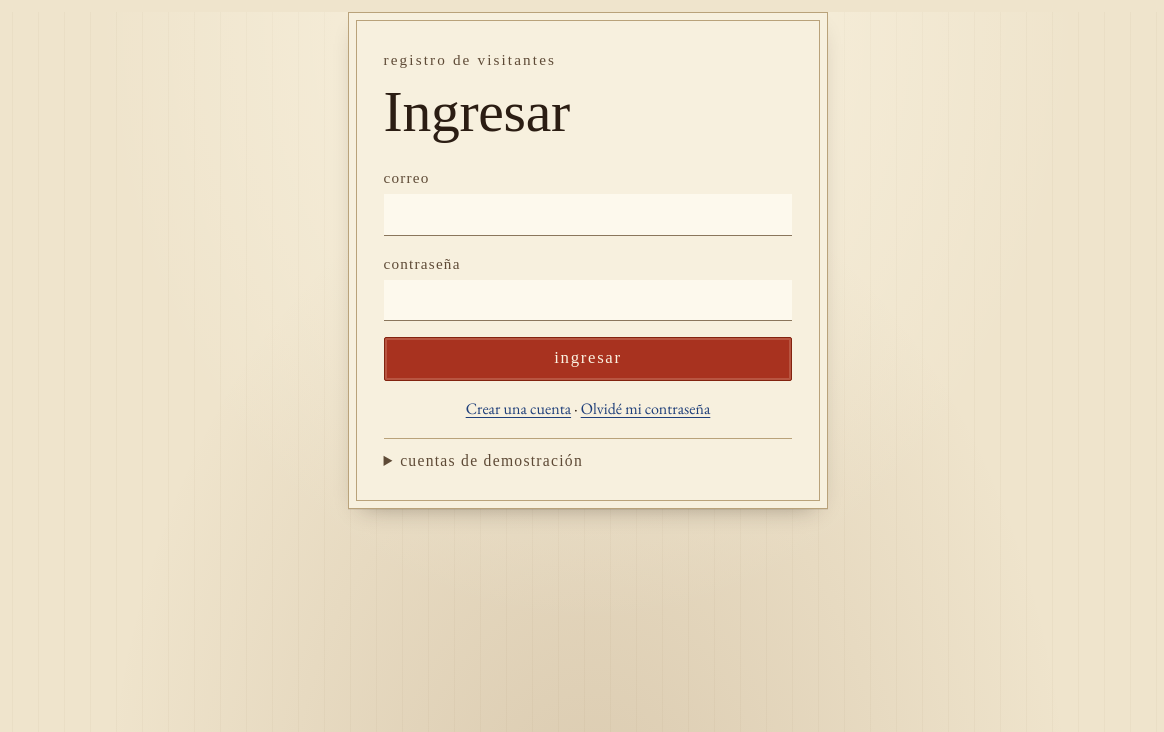
Test case: login › shows the server's error and sends staff to the workshop on success
The image size is (1164, 732).
In the field labelled "Correo": point(588, 215) [384, 194, 792, 236], type "taller@tulipann.test"
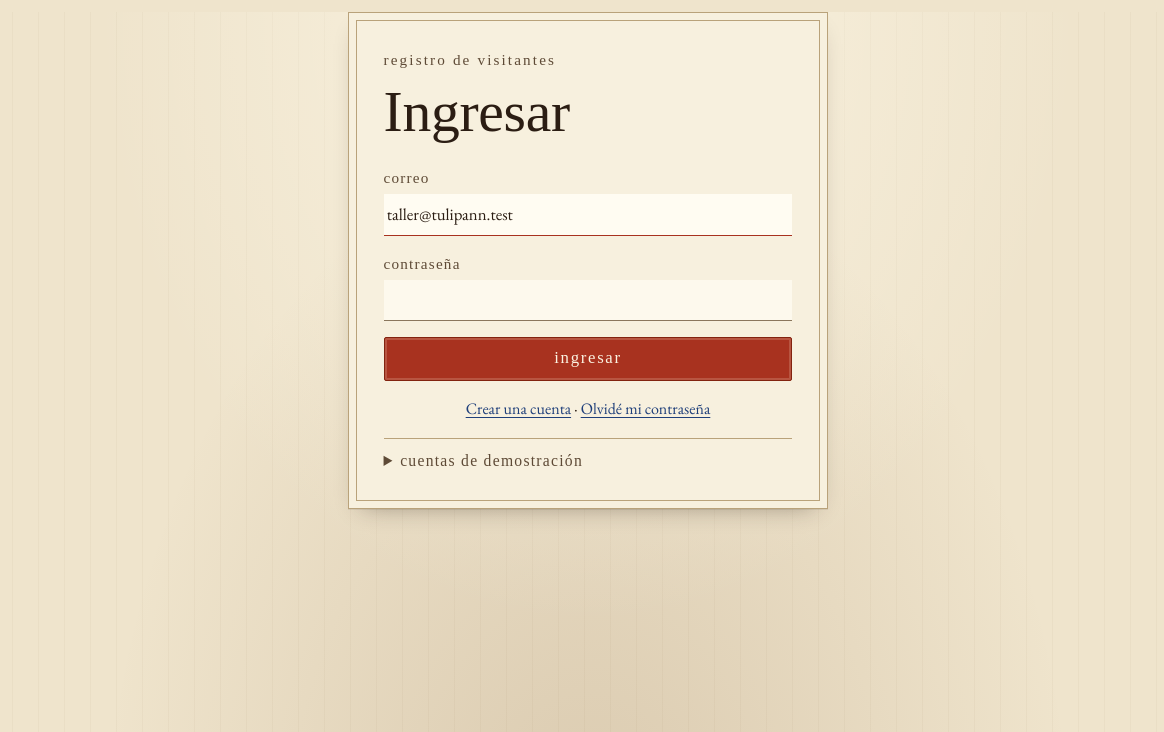
In the password field labelled "Contraseña": point(588, 301) [384, 280, 792, 321], type "mala"
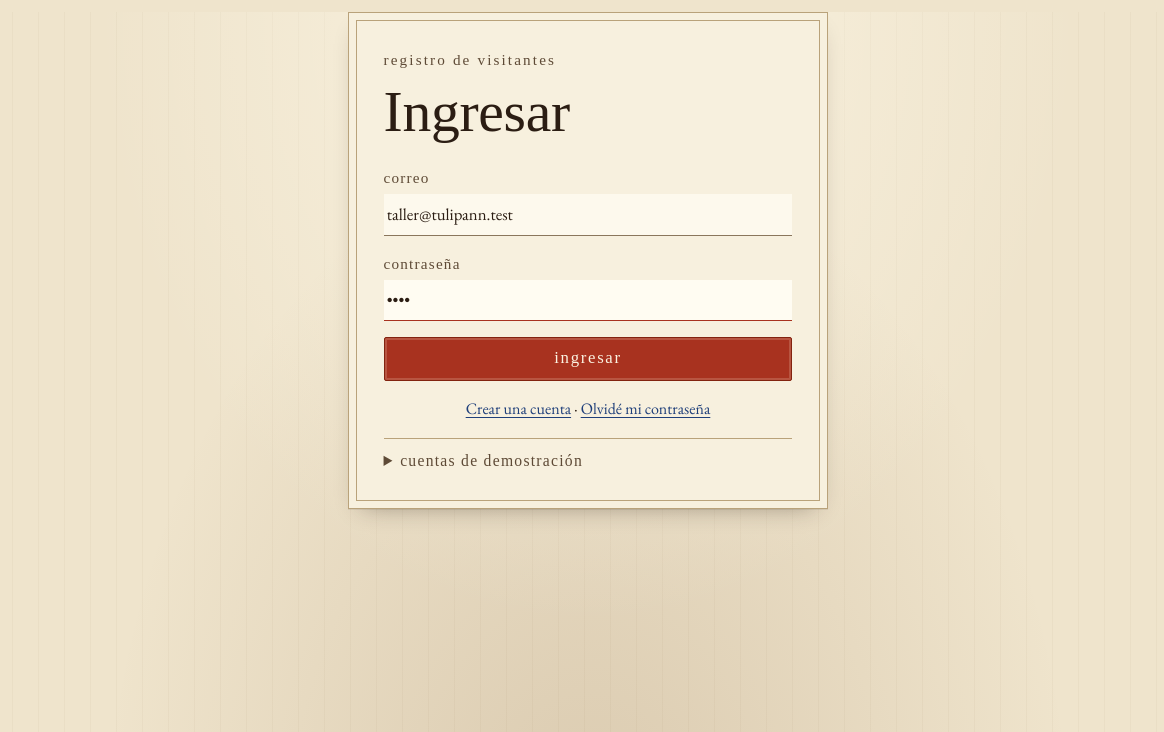
Click the button "Ingresar": point(588, 360) [384, 338, 792, 382]
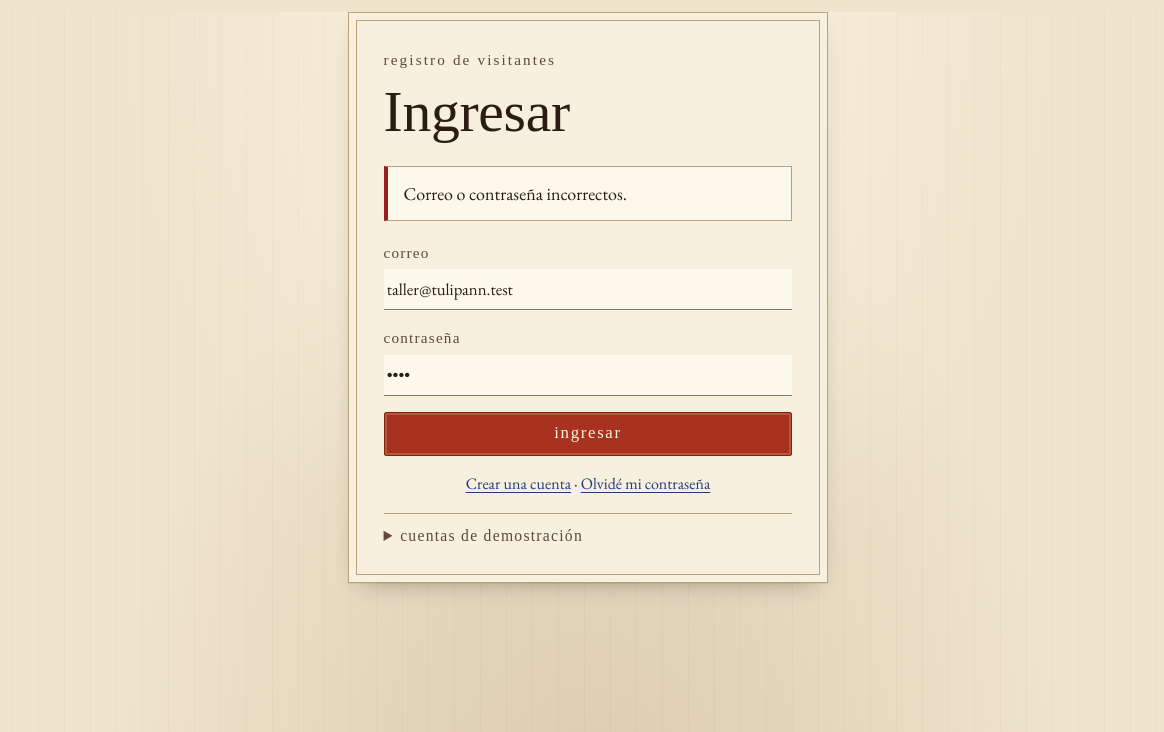
Now the message reads "Correo o contraseña incorrectos.", box [404, 182, 627, 205]
Click the button "Ingresar": point(588, 434) [384, 412, 792, 456]
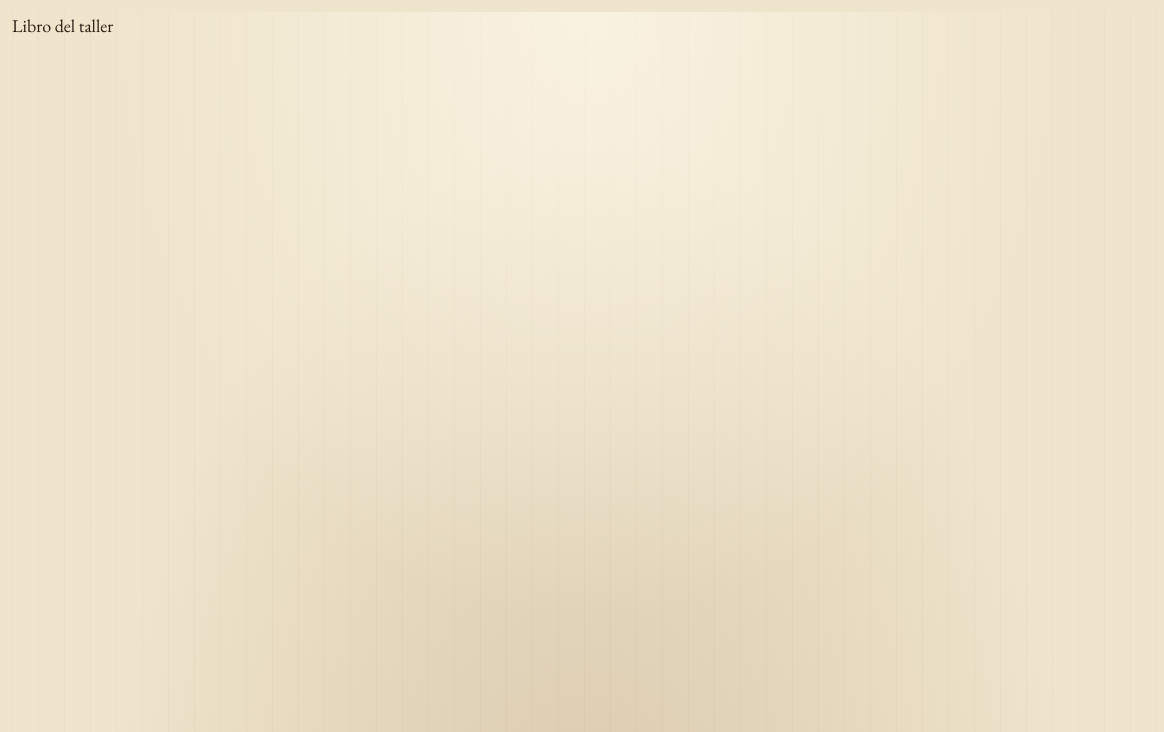
Now the text "Libro del taller" is shown, box [12, 14, 113, 37]
